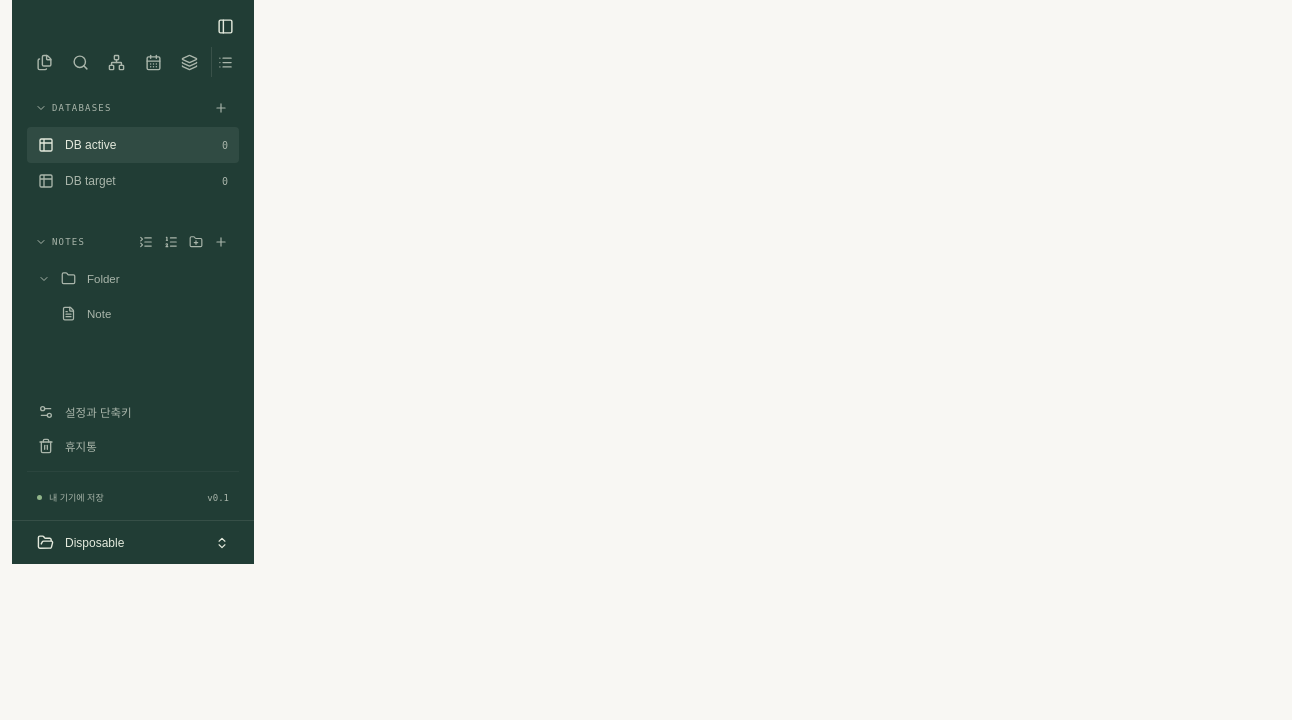
Scenario: menus live outside the clipping sidebar and a right click in the menu does not reopen roots
The image size is (1292, 720).
Right-click the button "Folder" at (133, 278), box [27,261,239,296]
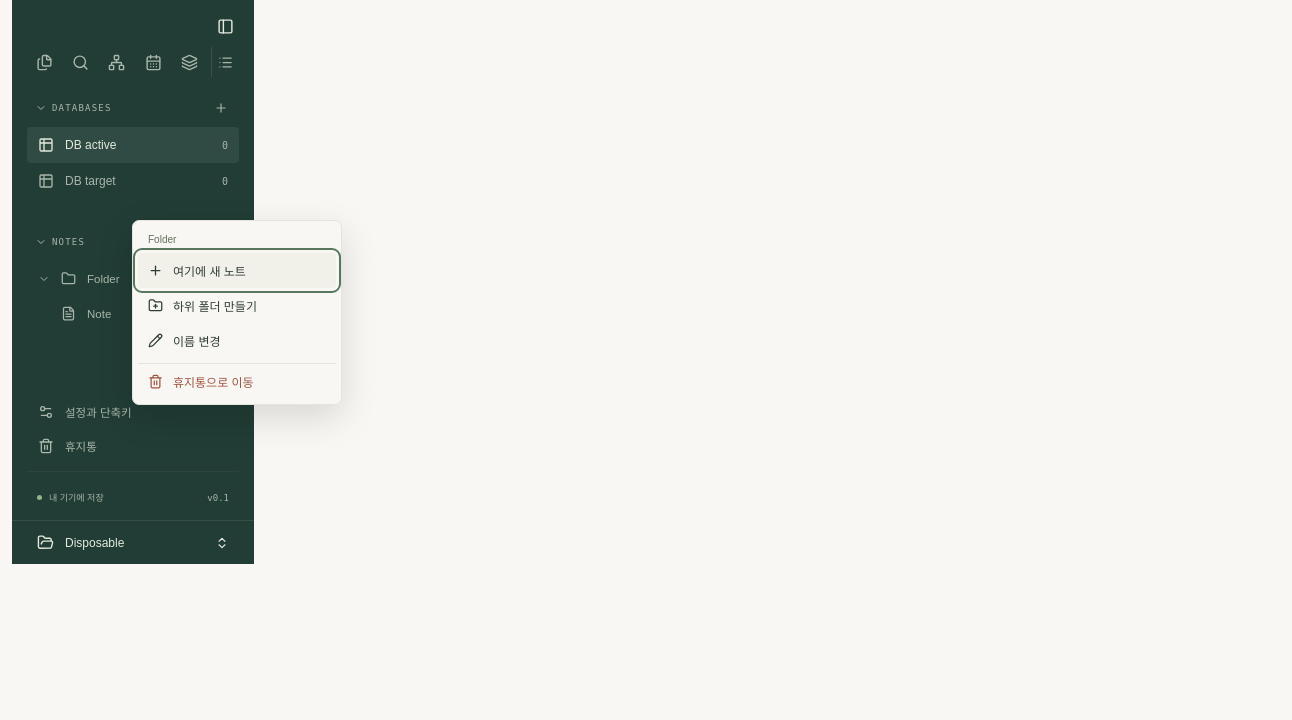
Right-click the menu item "여기에 새 노트" at (237, 270), box [138,253,336,288]
Expected: the text "하위 폴더 만들기" is shown, [173,297,257,314]
Press the mouse on the element that starts with "DATABASES" at (652, 282), box [12,0,1291,564]
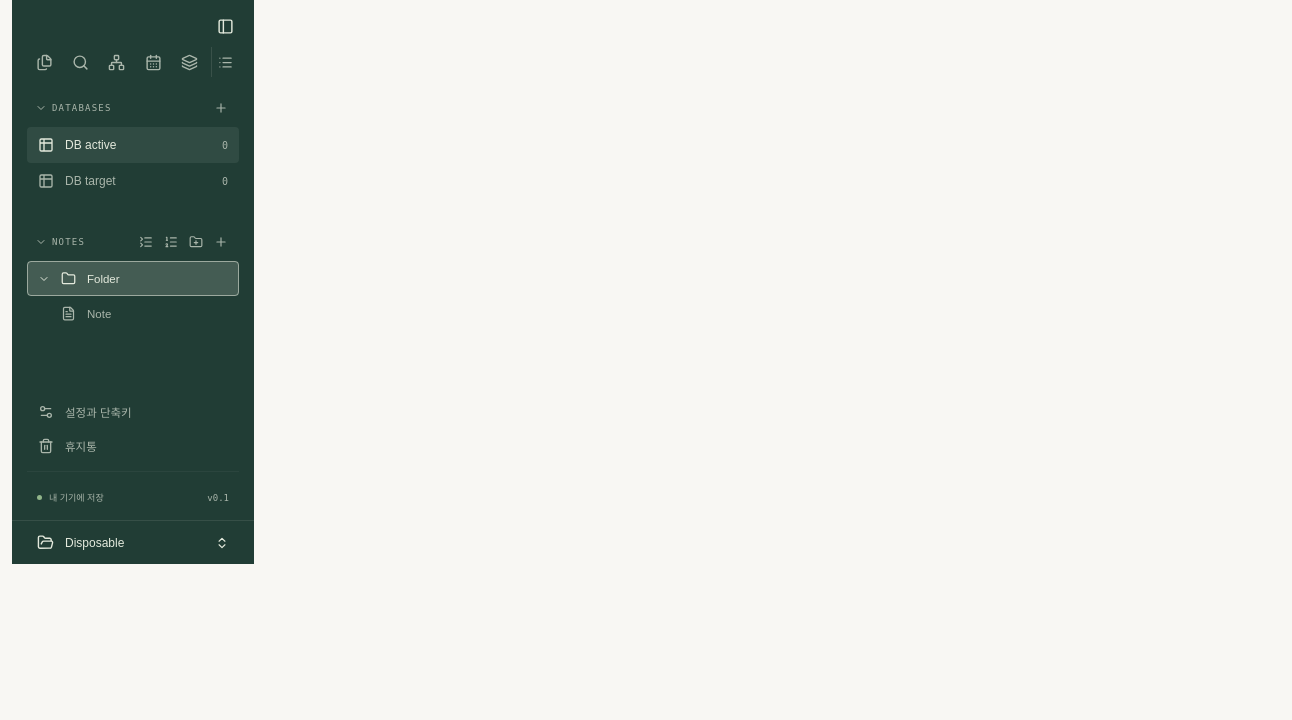
Expected: the menu is gone
